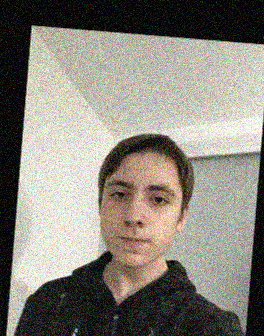without_mask: (99, 174, 179, 269)
